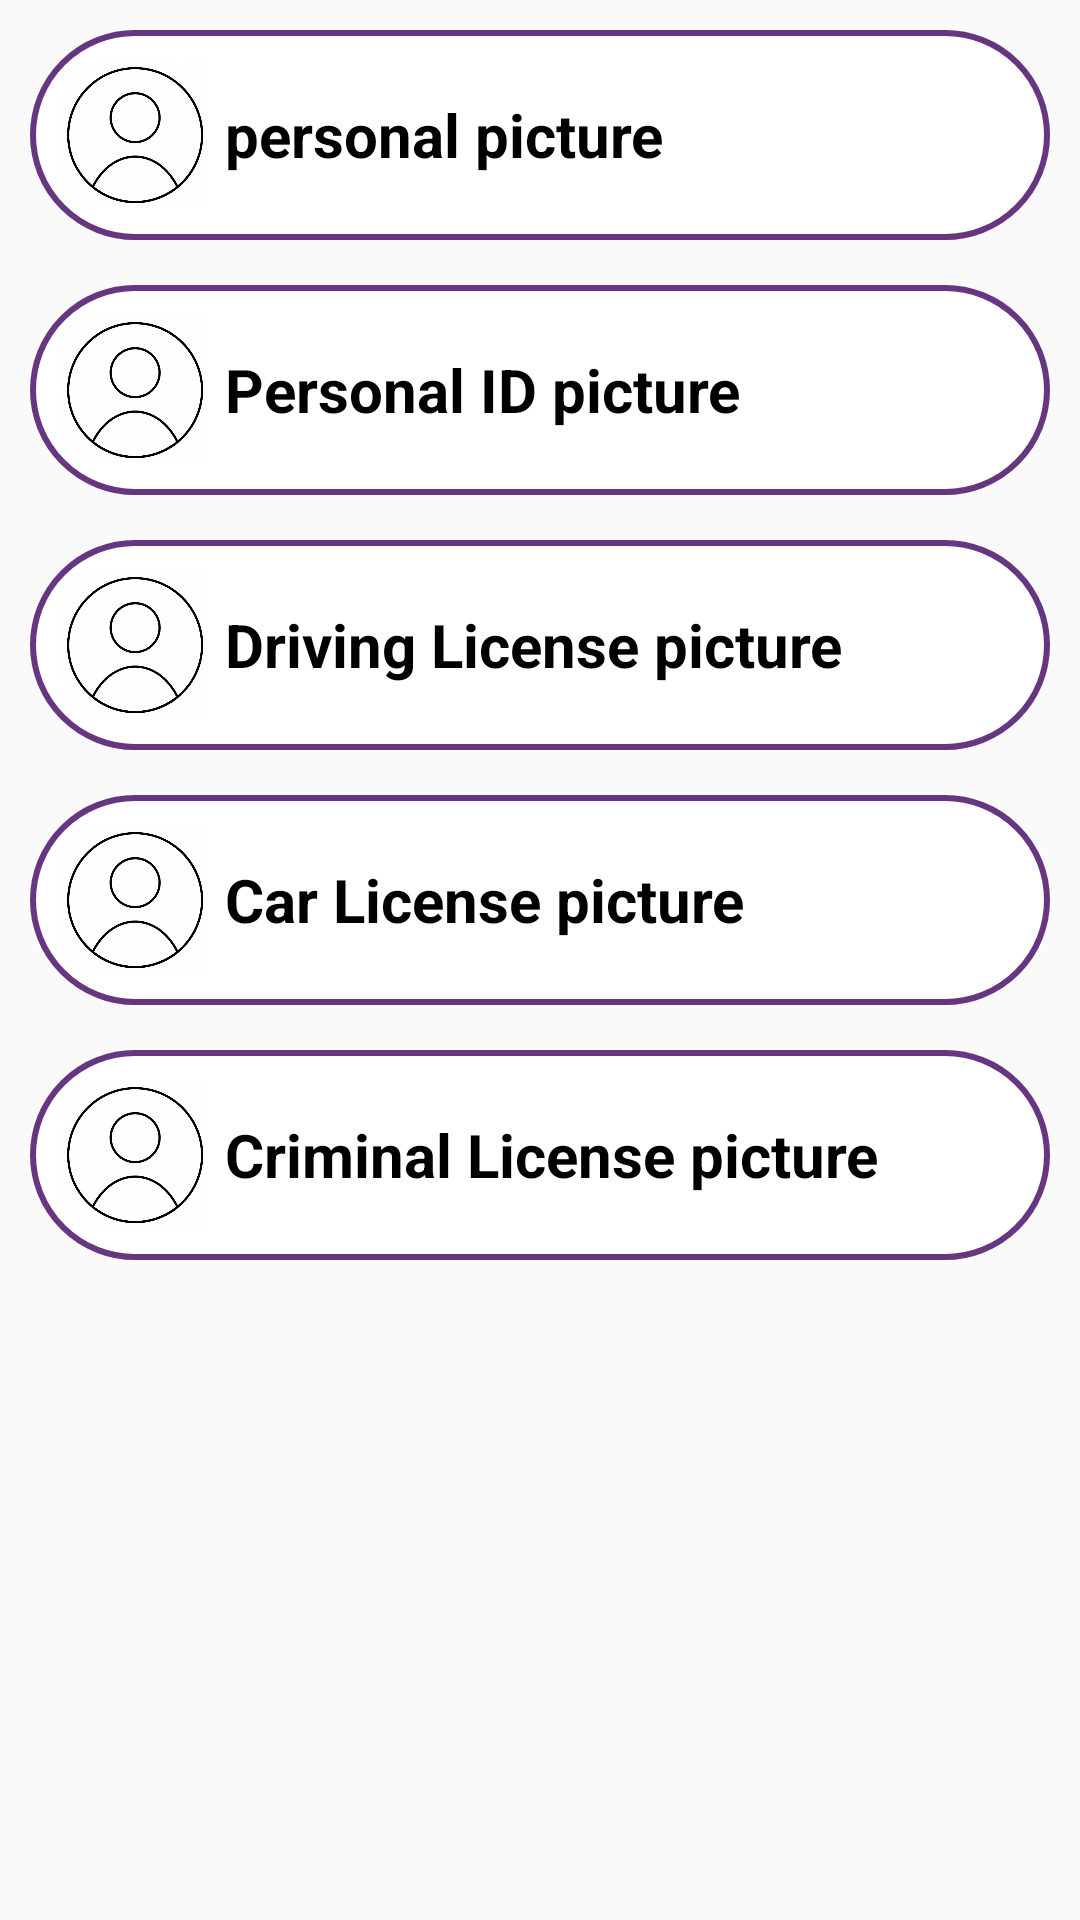

Icon bounding boxes for this 1080px×1920px phone screenshot, format (x1, y1, x2, y2):
profile: (67, 67, 203, 203), (67, 322, 203, 458), (67, 577, 203, 713), (67, 832, 203, 968), (67, 1087, 203, 1223)
